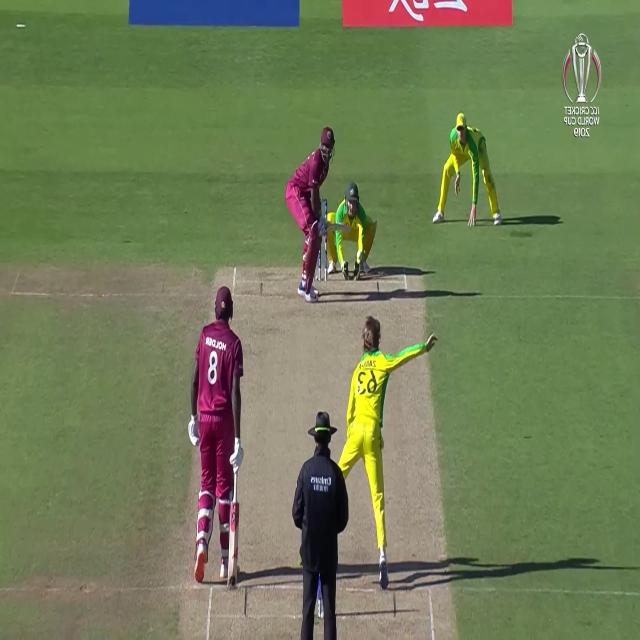ball: (355, 249, 364, 261)
